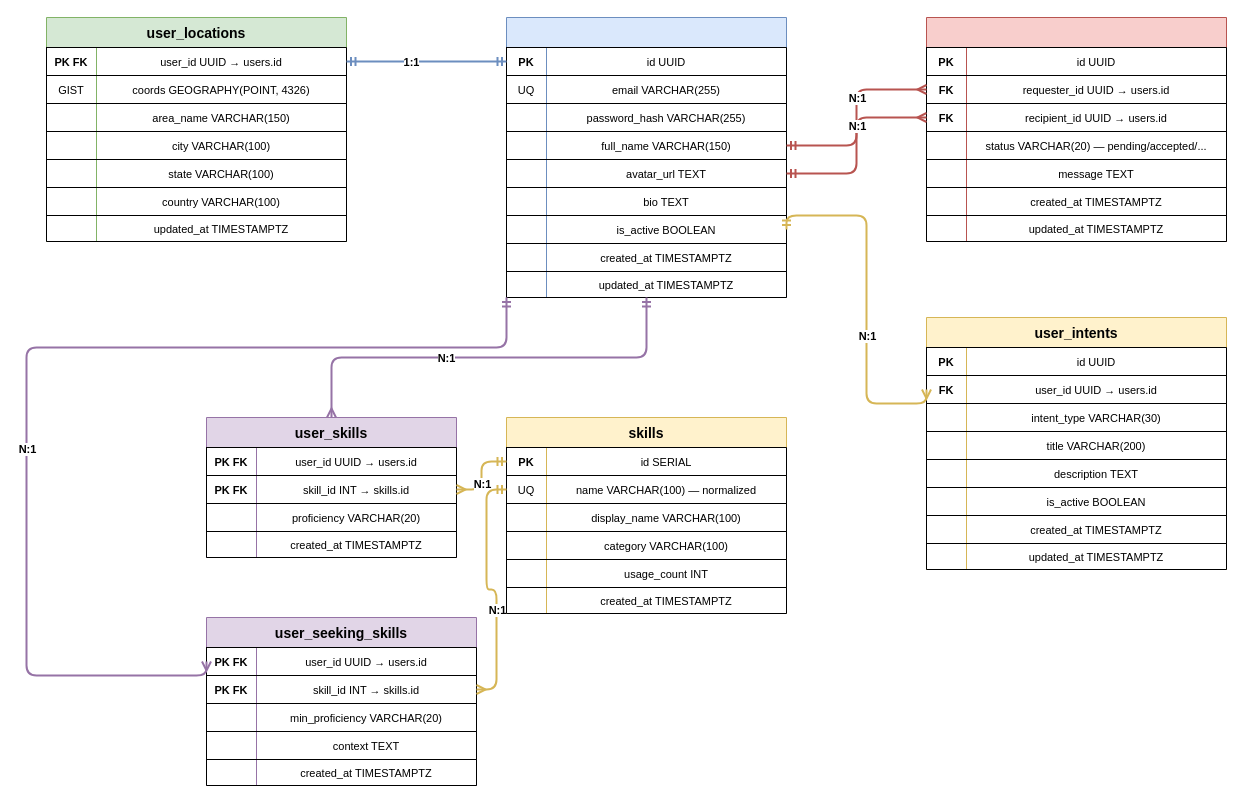
The diagram is 1244 pixels wide and 803 high, and some of its shapes have lost their labels. Here are the shapes that lost their labels. From the top down, the box of each, then its label:
(926, 16, 1226, 242): connections
(506, 16, 786, 298): users
